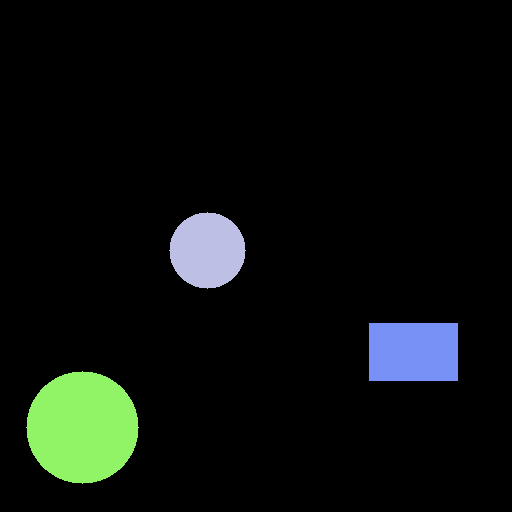circle: (26, 371, 138, 483), (169, 212, 245, 288)
rectangle: (369, 323, 457, 380)
